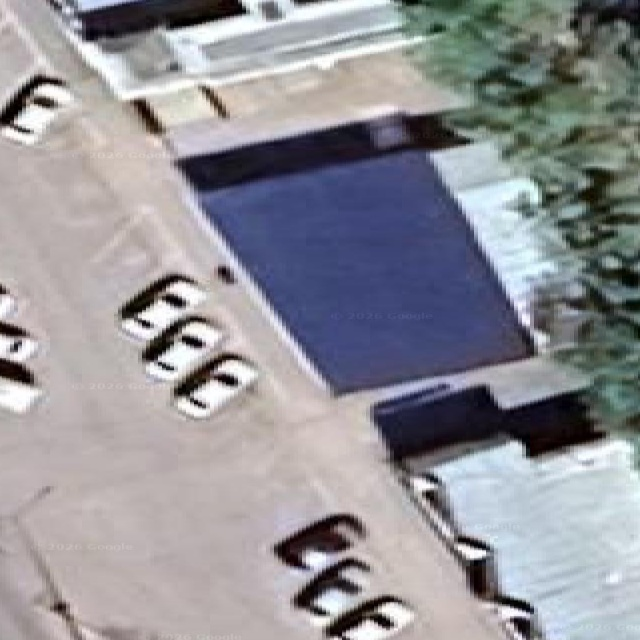car: (119, 275, 205, 340), (173, 355, 257, 418), (142, 318, 223, 380), (0, 78, 73, 145), (325, 596, 413, 639), (0, 359, 41, 412), (0, 322, 37, 361), (0, 284, 16, 319)
